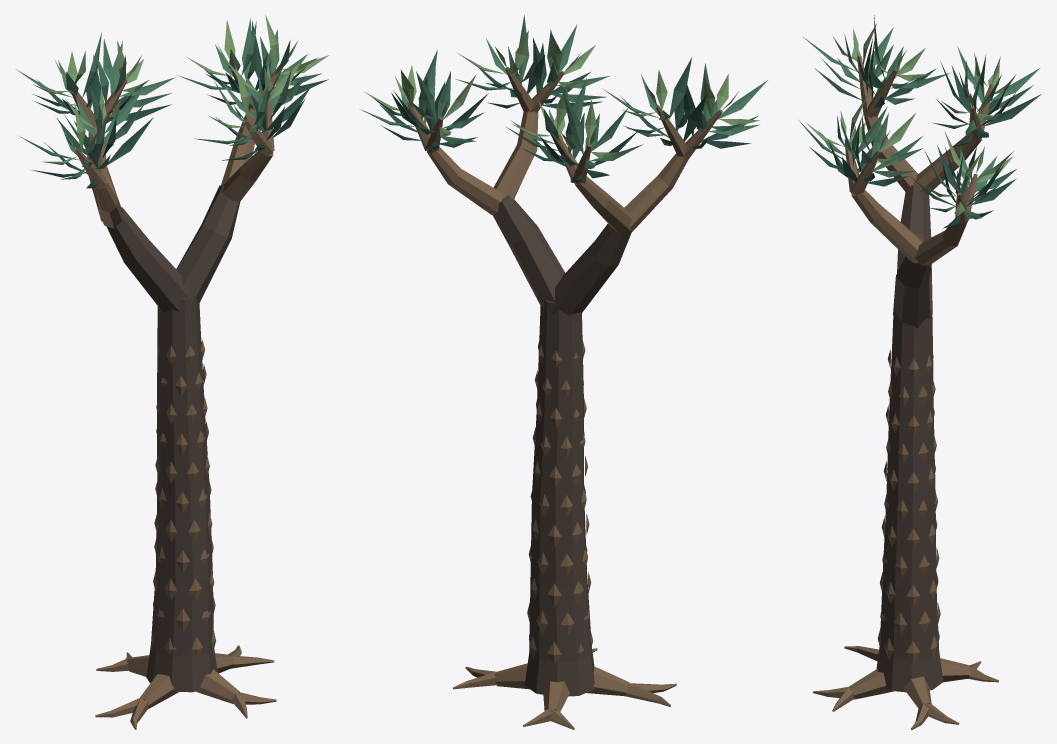
File: lepidodendron.glb
The picture shows the model from 3 angles, left to right: view 1: azimuth 30°, elevation 25°; view 2: azimuth 150°, elevation 25°; view 3: azimuth 270°, elevation 25°; orthographic projection. The views are drawn at different scales.
Parts seen in each view (by area): view 1: Lepidodendron | columnar trunk, Lepidodendron | narrow young-branch leaves, Lepidodendron | crown dichotomies, Lepidodendron | helical diamond leaf cushions, Lepidodendron | shallow bifurcating root seat; view 2: Lepidodendron | columnar trunk, Lepidodendron | narrow young-branch leaves, Lepidodendron | crown dichotomies, Lepidodendron | helical diamond leaf cushions, Lepidodendron | shallow bifurcating root seat; view 3: Lepidodendron | columnar trunk, Lepidodendron | narrow young-branch leaves, Lepidodendron | crown dichotomies, Lepidodendron | helical diamond leaf cushions, Lepidodendron | shallow bifurcating root seat.
Part boxes in pixels (x1,y1,x2,y2): Lepidodendron | columnar trunk: (146,297,217,692); Lepidodendron | narrow young-branch leaves: (16,14,329,188); Lepidodendron | crown dichotomies: (71,65,282,312); Lepidodendron | helical diamond leaf cushions: (151,339,215,657); Lepidodendron | shallow bifurcating root seat: (95,645,276,729); Lepidodendron | columnar trunk: (524,300,594,696); Lepidodendron | narrow young-branch leaves: (360,15,767,183); Lepidodendron | crown dichotomies: (407,67,722,315); Lepidodendron | helical diamond leaf cushions: (527,340,592,664); Lepidodendron | shallow bifurcating root seat: (453,648,676,729); Lepidodendron | columnar trunk: (876,304,943,692); Lepidodendron | narrow young-branch leaves: (798,15,1041,228); Lepidodendron | crown dichotomies: (844,56,993,328); Lepidodendron | helical diamond leaf cushions: (877,349,940,663); Lepidodendron | shallow bifurcating root seat: (813,646,998,729).
Size of the model in its own units: 4.75 by 8.46 by 3.03.
